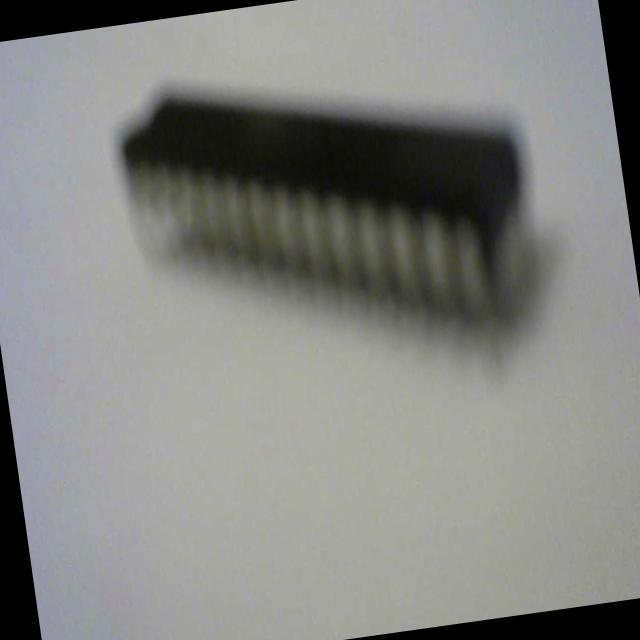atmega: (105, 35, 552, 384)
